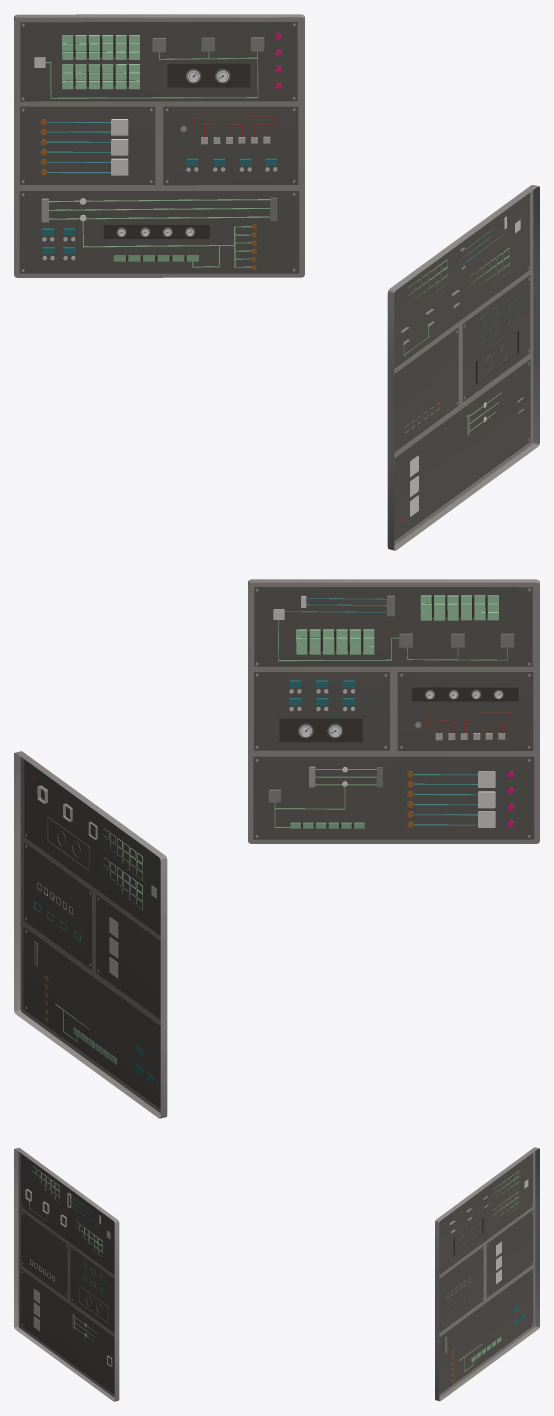
Rendered from WallPanels.fbx.
The picture shows the model from 3 angles, top to bottom: view 1: azimuth 30°, elevation 25°; view 2: azimuth 150°, elevation 25°; view 3: azimuth 270°, elevation 25°; orthographic projection. The views are drawn at different scales.
Parts seen in each view (by area): view 1: 3, 3.020, Plane.047; view 2: 3.020, 3, 3.012; view 3: 3, 3.020.
Boxes of the visible parts, bbox=[...] form: 3: bbox=[14, 14, 304, 277]; 3.020: bbox=[387, 185, 539, 550]; Plane.047: bbox=[180, 116, 276, 144]; 3.020: bbox=[248, 579, 539, 843]; 3: bbox=[14, 751, 167, 1118]; 3.012: bbox=[407, 771, 513, 827]; 3: bbox=[435, 1147, 539, 1401]; 3.020: bbox=[14, 1147, 119, 1401].
Size of the model in its own units: 0.9787 by 1.09 by 2.88.
